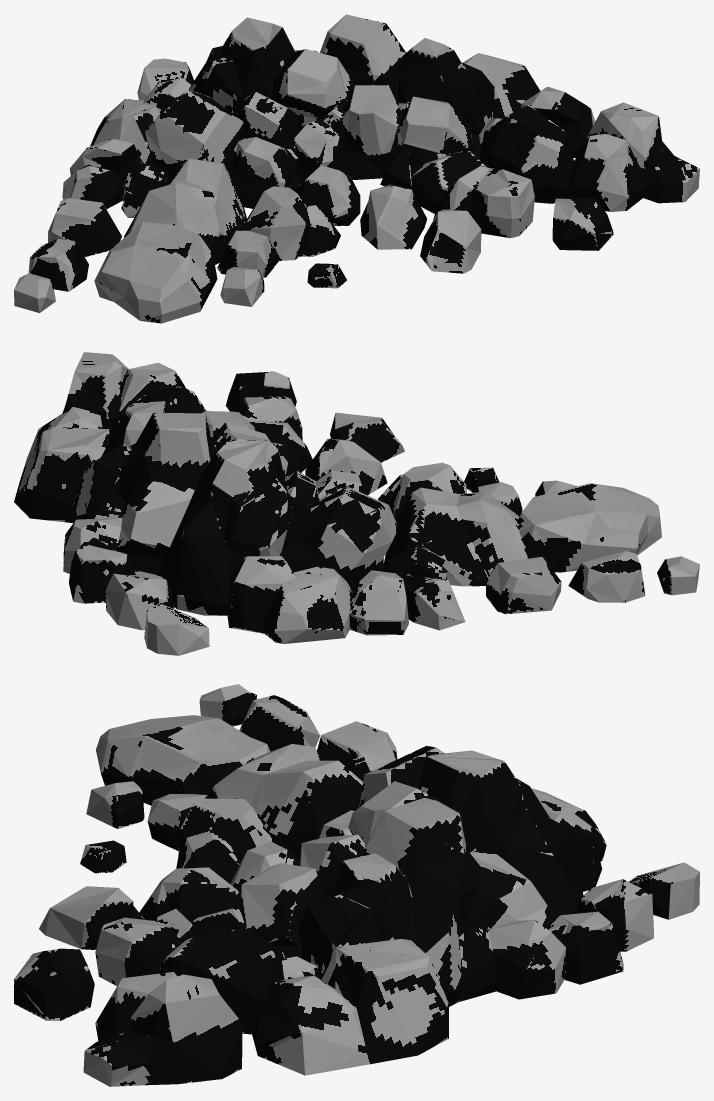
3 renders of one model, top to bottom at view 1: azimuth 30°, elevation 25°; view 2: azimuth 150°, elevation 25°; view 3: azimuth 270°, elevation 25°, orthographic. The views are drawn at different scales.
Parts seen in each view (by area): view 1: OBJ0da; view 2: OBJ0da; view 3: OBJ0da.
Boxes of the visible parts, x1,y1,x2,y2 form: OBJ0da: (14, 14, 699, 323); OBJ0da: (14, 352, 699, 655); OBJ0da: (14, 684, 699, 1086).
Bounding box in the file's own units: 0.9014 × 0.1686 × 0.6862.
1 material, 1 textured.
